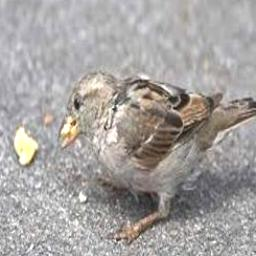Sparrow: (56, 70, 256, 243)
